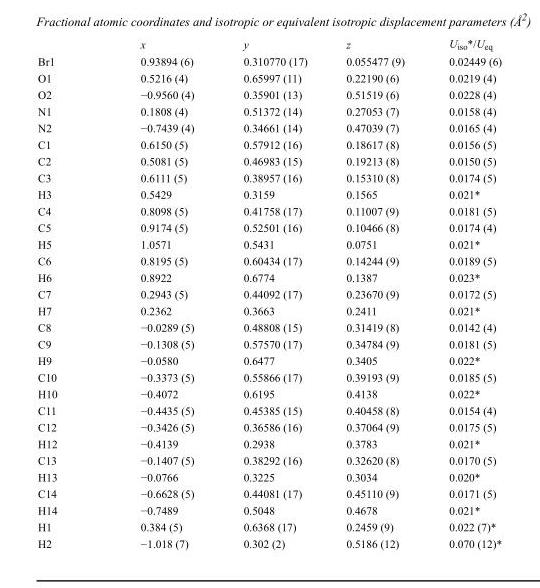table: (37, 36, 501, 549)
table column: (98, 36, 218, 549), (218, 36, 326, 549), (326, 36, 426, 549), (426, 36, 501, 549), (37, 36, 98, 549)
table column header: (37, 36, 501, 52)
table row: (37, 52, 501, 69), (37, 85, 501, 102), (37, 102, 501, 119), (37, 135, 501, 152), (37, 152, 501, 169), (37, 185, 501, 202), (37, 218, 501, 235), (37, 235, 501, 252), (37, 268, 501, 285), (37, 285, 501, 302), (37, 318, 501, 335), (37, 351, 501, 368), (37, 368, 501, 385), (37, 401, 501, 418), (37, 418, 501, 435), (37, 451, 501, 468), (37, 484, 501, 501), (37, 501, 501, 518), (37, 36, 501, 52), (37, 69, 501, 85), (37, 119, 501, 135), (37, 169, 501, 185), (37, 202, 501, 218), (37, 252, 501, 268), (37, 302, 501, 318), (37, 335, 501, 351), (37, 385, 501, 401), (37, 435, 501, 451), (37, 468, 501, 484), (37, 518, 501, 534), (37, 534, 501, 549)
